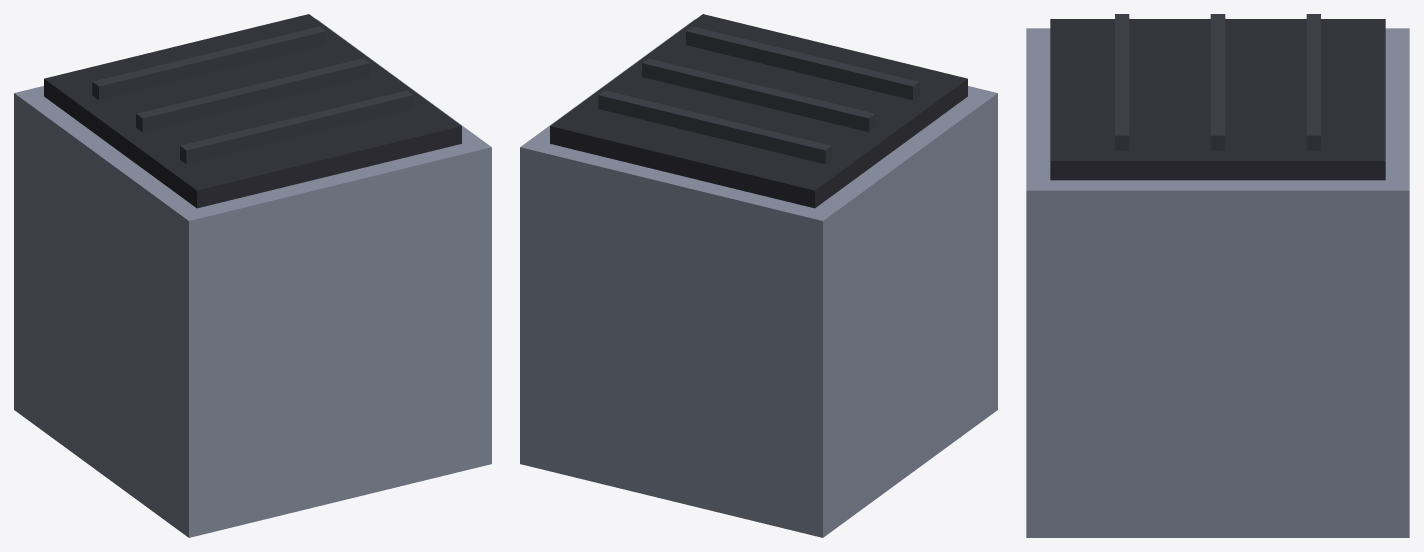
The model's file is colony-air-vent.glb.
The picture shows the model from 3 angles, left to right: view 1: azimuth 30°, elevation 25°; view 2: azimuth 150°, elevation 25°; view 3: azimuth 270°, elevation 25°; orthographic projection. The views are drawn at different scales.
Parts seen in each view (by area): view 1: air_vent; view 2: air_vent; view 3: air_vent.
Part boxes in pixels (left/top/right/bottom): air_vent: left=14, top=14, right=491, bottom=537; air_vent: left=520, top=14, right=997, bottom=537; air_vent: left=1026, top=14, right=1409, bottom=537.
Bounding box in the file's own units: 0.8 × 0.88 × 0.8.
